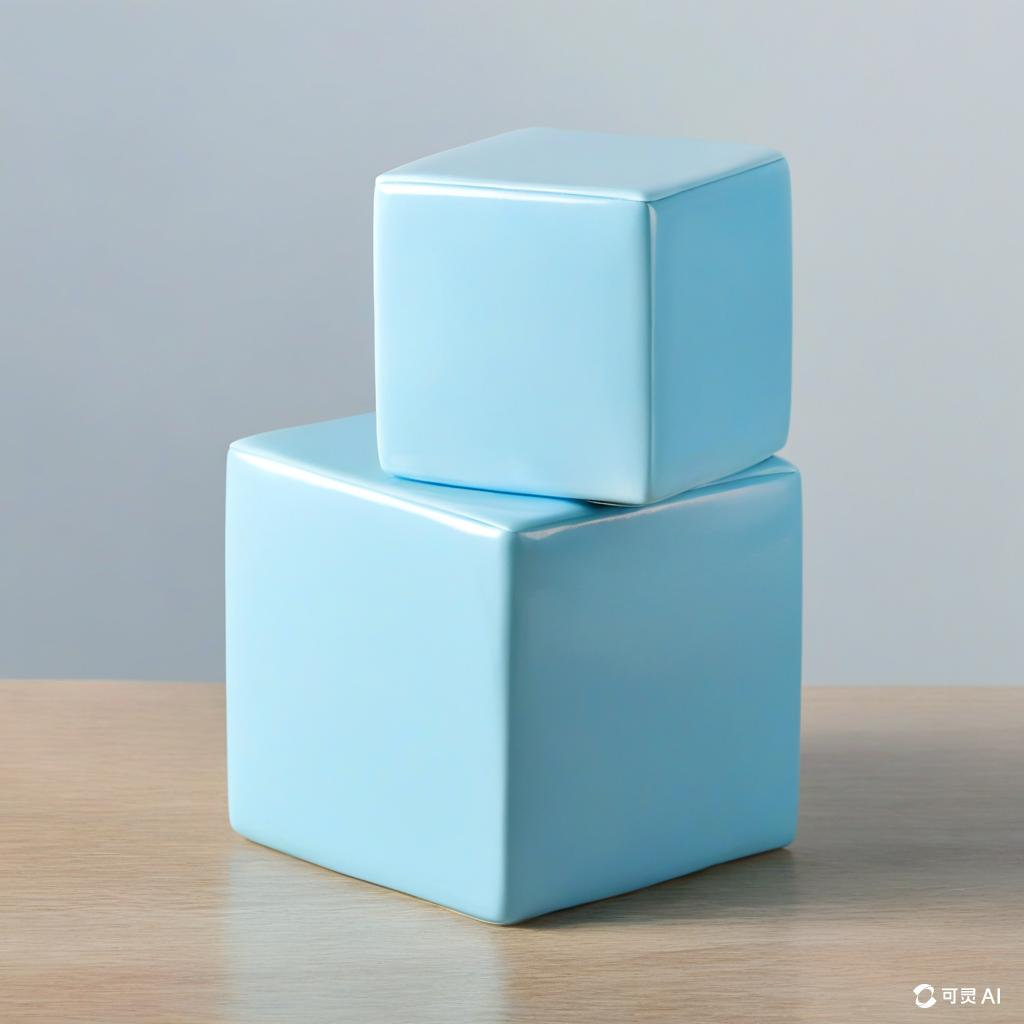cube: (223, 408, 804, 925), (371, 124, 794, 507)
